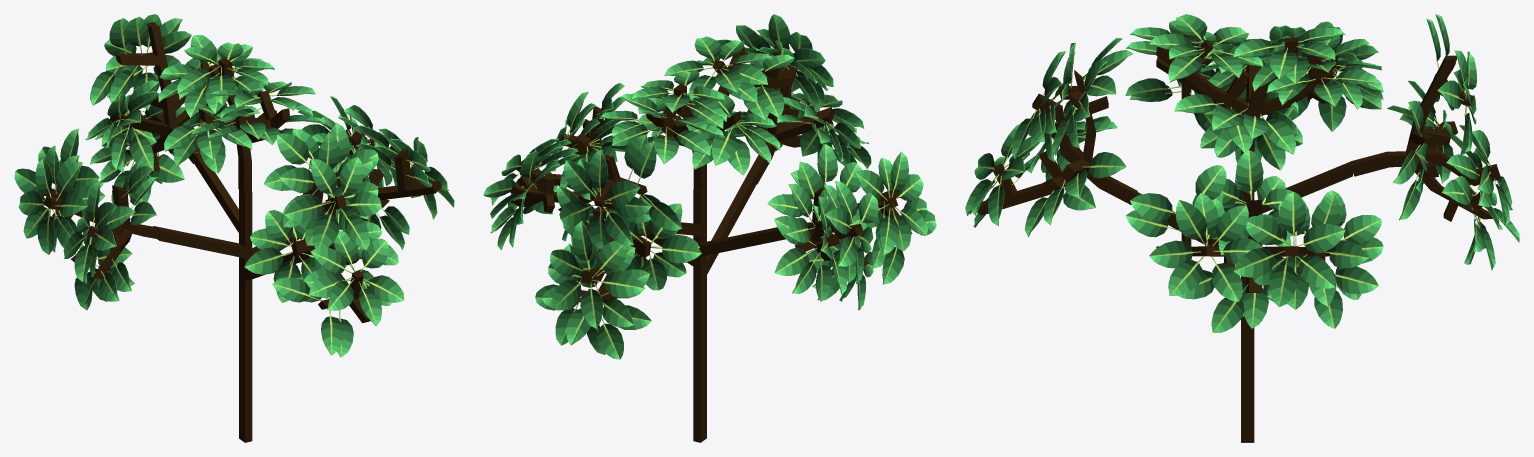
File: tree_final.fbx
The picture shows the model from 3 angles, left to right: view 1: azimuth 30°, elevation 25°; view 2: azimuth 150°, elevation 25°; view 3: azimuth 270°, elevation 25°; orthographic projection. The views are drawn at different scales.
Visible parts, largest first — view 1: pCube8; view 2: pCube8; view 3: pCube8.
Boxes of the visible parts, bbox=[...] form: pCube8: bbox=[14, 14, 454, 442]; pCube8: bbox=[483, 14, 936, 442]; pCube8: bbox=[965, 14, 1519, 442].
Bounding box in the file's own units: 12.69 × 12.06 × 14.89.
